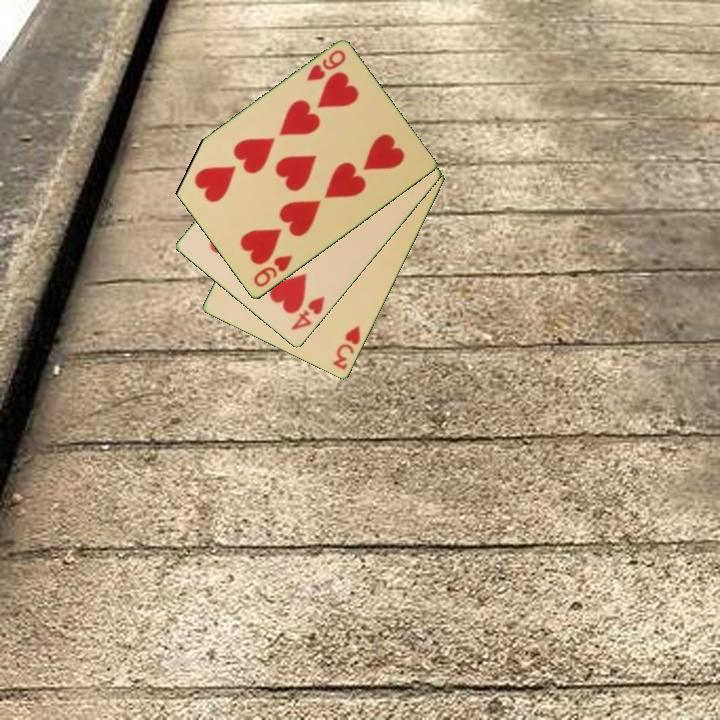3h: (329, 322, 363, 373)
4h: (288, 293, 328, 334)
9h: (303, 46, 349, 85), (250, 252, 295, 291)
